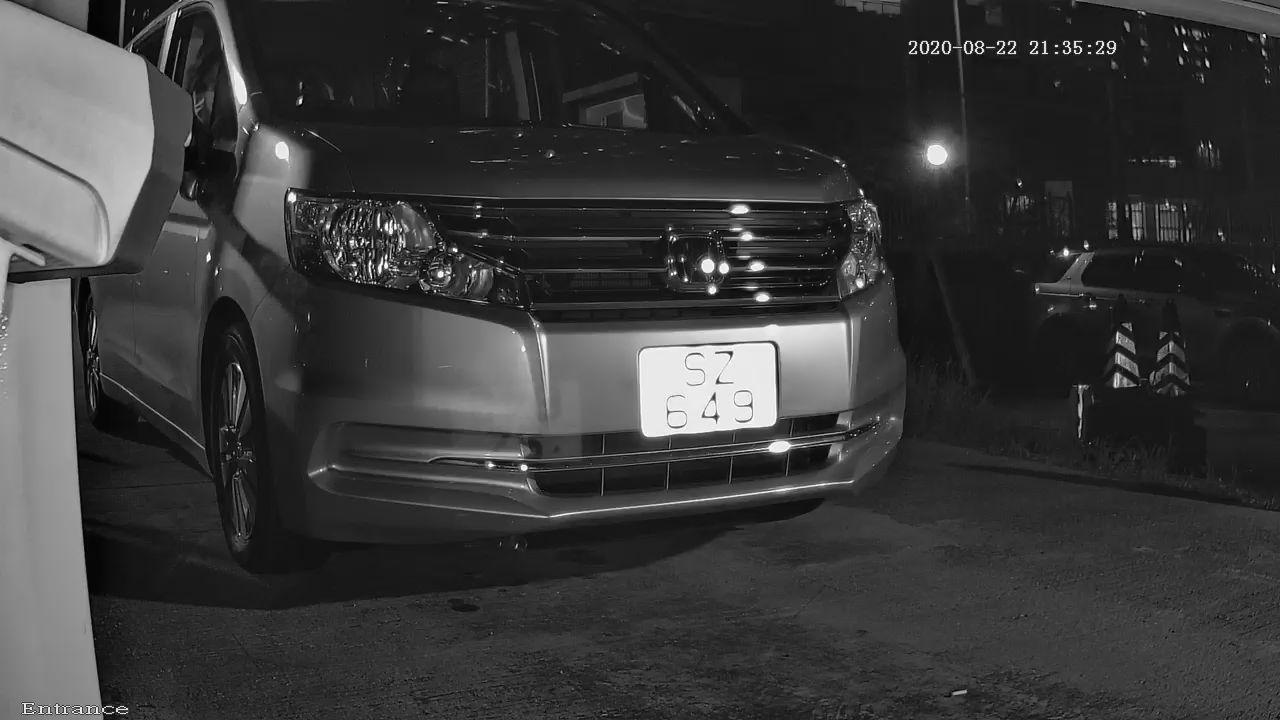Car: (69, 4, 1052, 589)
License Plate: (593, 298, 822, 482)
